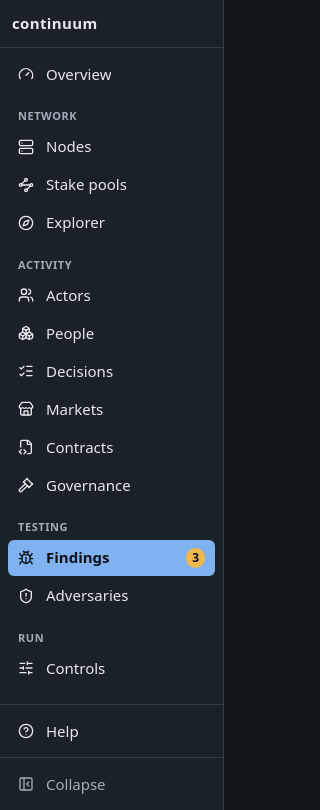
sidebar › collapses to icons, keeps names for assistive tech and remembers the choice
Later steps or results of the test are not shown.
Click the button with aria-label "Collapse sidebar".
click(112, 784)  # box [8,766,215,802]
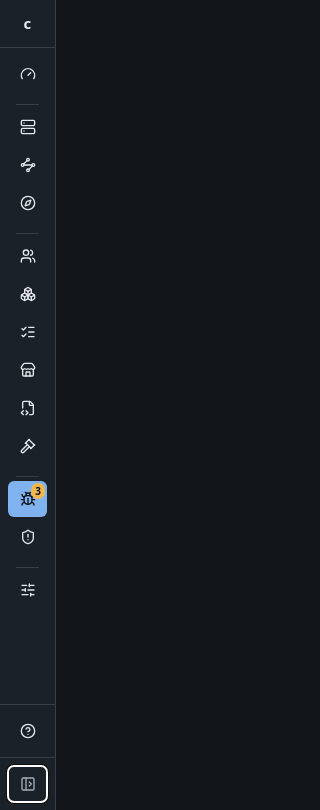
Check: the link named "Findings" is shown, box [8,481,47,517]
Check: no headings are shown
Check: the button named "Expand sidebar" is collapsed, box [8,766,47,802]
